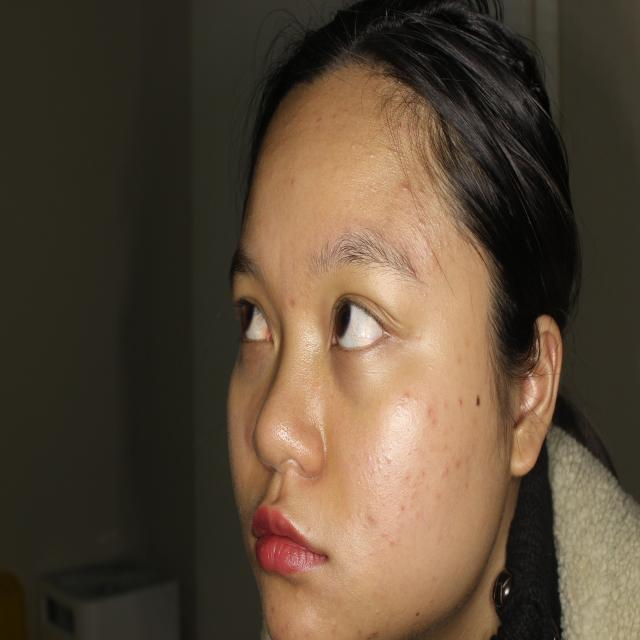acne: (397, 173, 418, 208), (382, 444, 398, 468), (424, 405, 437, 432), (402, 384, 415, 402), (440, 455, 448, 483), (454, 449, 464, 471)
